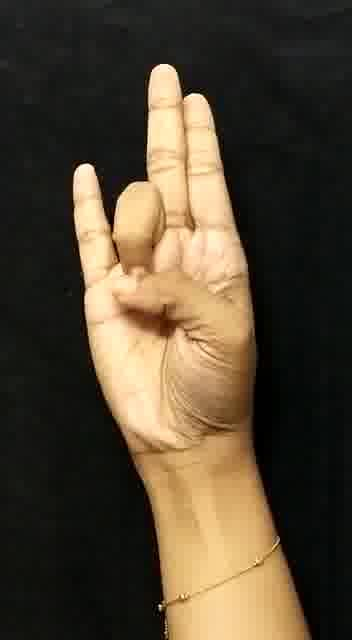mayur: (43, 56, 283, 450)
